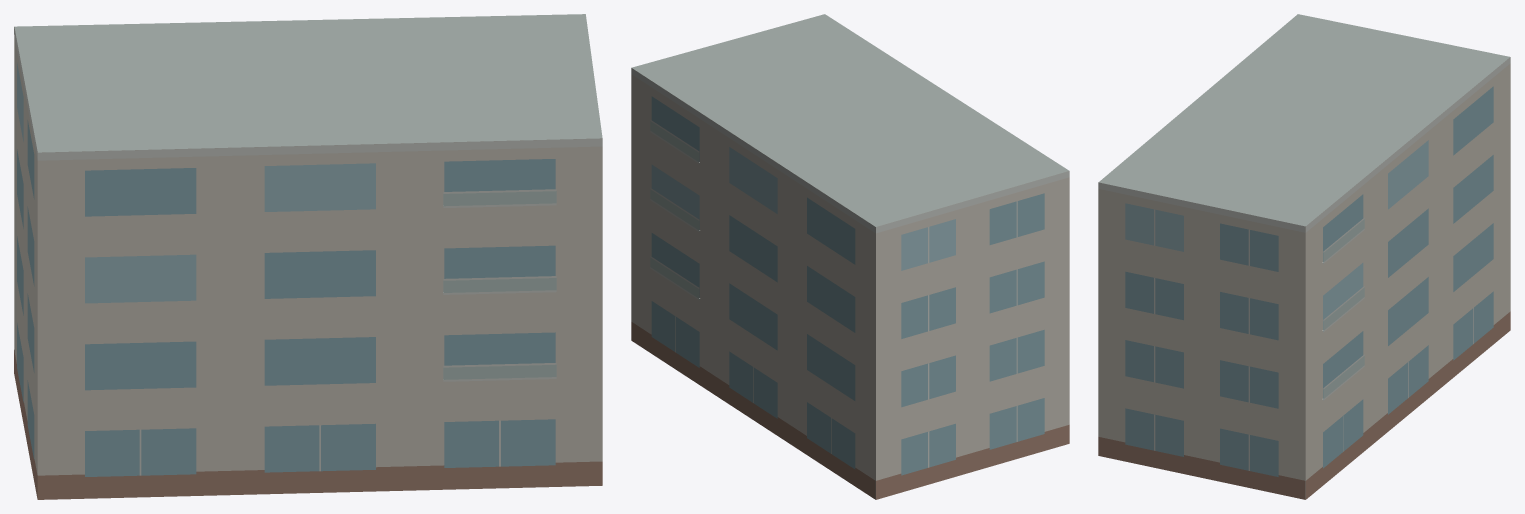
The model's file is survey-upis-32886222.glb.
3 renders of one model, left to right at view 1: azimuth 30°, elevation 25°; view 2: azimuth 150°, elevation 25°; view 3: azimuth 270°, elevation 25°, orthographic. The views are drawn at different scales.
Visible parts, largest first — view 1: survey-upis-32886222.tmp; view 2: survey-upis-32886222.tmp; view 3: survey-upis-32886222.tmp.
Part boxes in pixels (x1,y1,x2,y2): survey-upis-32886222.tmp: (14, 14, 602, 499); survey-upis-32886222.tmp: (631, 14, 1069, 499); survey-upis-32886222.tmp: (1098, 14, 1510, 499).
Size of the model in its own units: 17.34 by 10.4 by 14.21.
